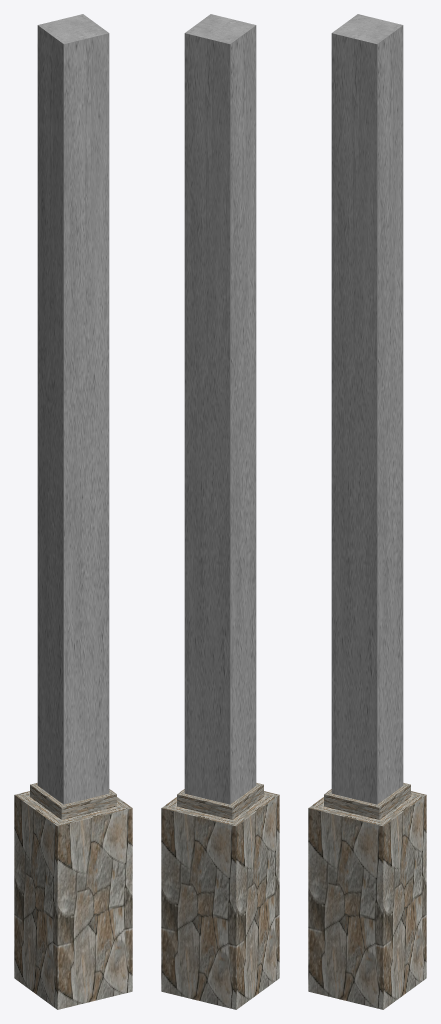
The model's file is beam.fbx.
3 renders of one model, left to right at view 1: azimuth 30°, elevation 25°; view 2: azimuth 150°, elevation 25°; view 3: azimuth 330°, elevation 25°, orthographic.
Visible parts, largest first — view 1: Beam; view 2: Beam; view 3: Beam.
Part boxes in pixels (left/top/right/bottom): Beam: left=14, top=14, right=132, bottom=1009; Beam: left=161, top=14, right=279, bottom=1009; Beam: left=308, top=14, right=426, bottom=1009.
Bounding box in the file's own units: 25.88 × 315 × 25.78.
Materials: 2 (2 with a texture image).
